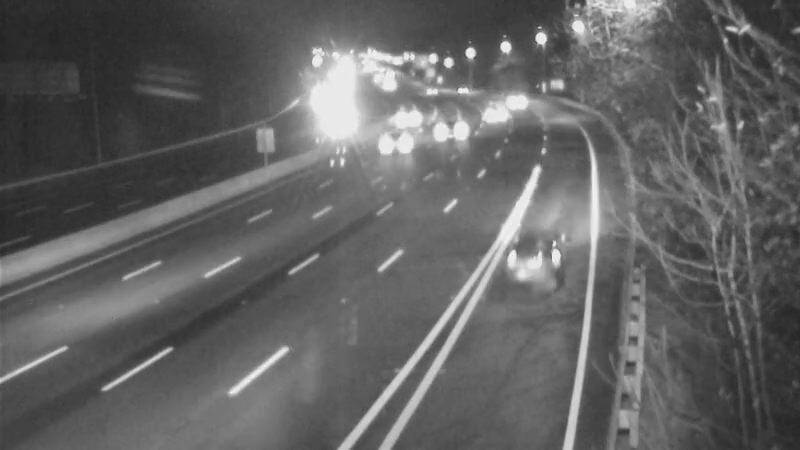vehicle: (500, 222, 580, 302), (437, 63, 487, 113), (402, 64, 452, 114), (488, 81, 538, 131), (467, 85, 517, 135), (386, 89, 436, 139), (418, 112, 468, 162), (376, 114, 426, 164), (311, 94, 361, 144)
